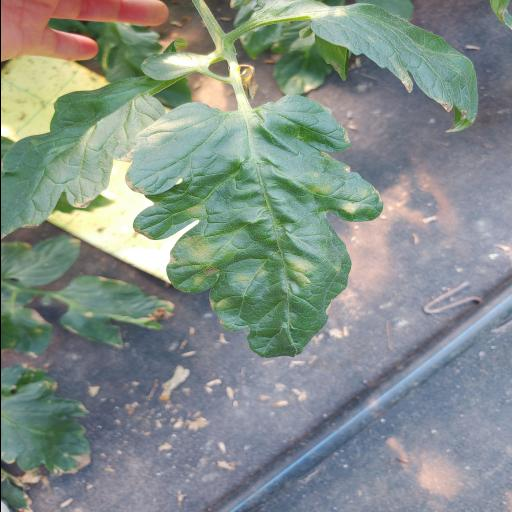disease_tomato: (124, 95, 382, 358)
